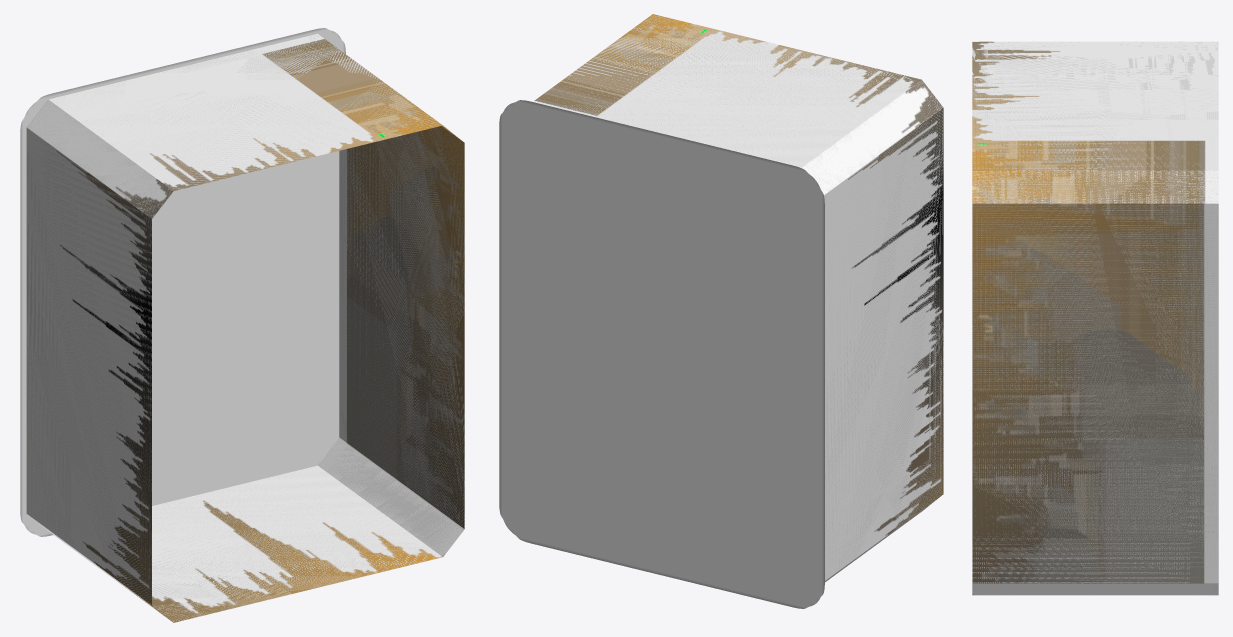
The model's file is placa-botaov12-3d.fbx.
3 views of the same model, side by side, from view 1: azimuth 30°, elevation 25°; view 2: azimuth 150°, elevation 25°; view 3: azimuth 270°, elevation 25° (orthographic).
Visible parts, largest first — view 1: Plane_face_fora, Plane_face_dentro, placa-botao-pupv2; view 2: placa-botao-pupv2, Plane_face_fora, Plane_face_dentro; view 3: Plane_face_fora, Plane_face_dentro.
Boxes of the visible parts, x1,y1,x2,y2 form: Plane_face_fora: (26,33,464,622); Plane_face_dentro: (26,35,464,621); placa-botao-pupv2: (20,28,345,536); placa-botao-pupv2: (499,100,824,608); Plane_face_fora: (533,14,943,580); Plane_face_dentro: (551,15,943,582); Plane_face_fora: (972,41,1218,595); Plane_face_dentro: (972,41,1218,595).
Bounding box in the file's own units: 77.78 × 100 × 50.
